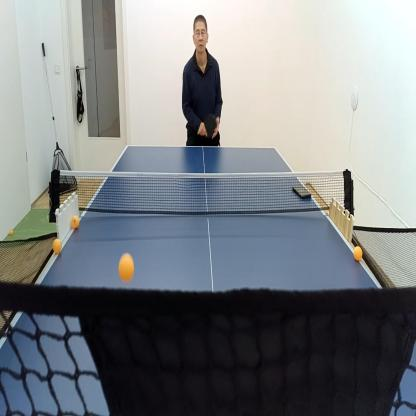Ball: (118, 252, 135, 282), (353, 244, 363, 262), (52, 238, 61, 252), (72, 216, 78, 229), (10, 229, 13, 236)
